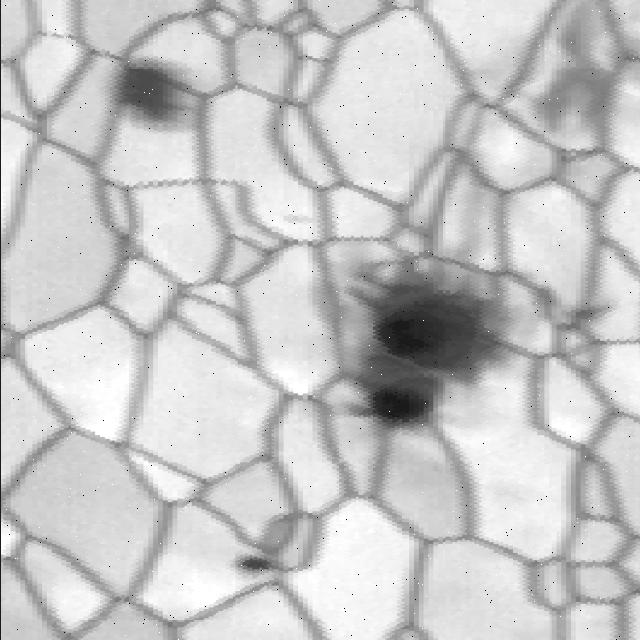good_void: (326, 235, 515, 435), (521, 5, 637, 131), (104, 45, 204, 133), (542, 290, 611, 349), (215, 534, 290, 577), (270, 205, 311, 237)
